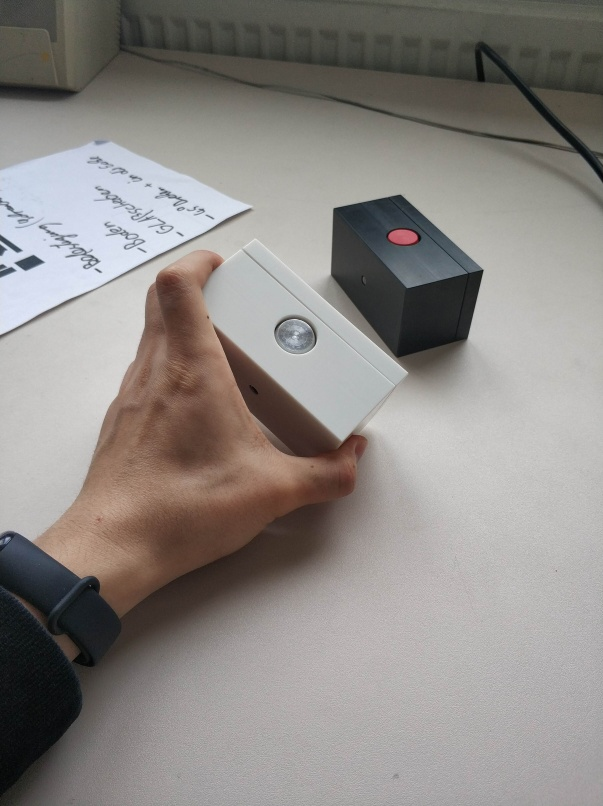black+black+red: (329, 192, 483, 357)
white+white+silver: (200, 236, 409, 454)
